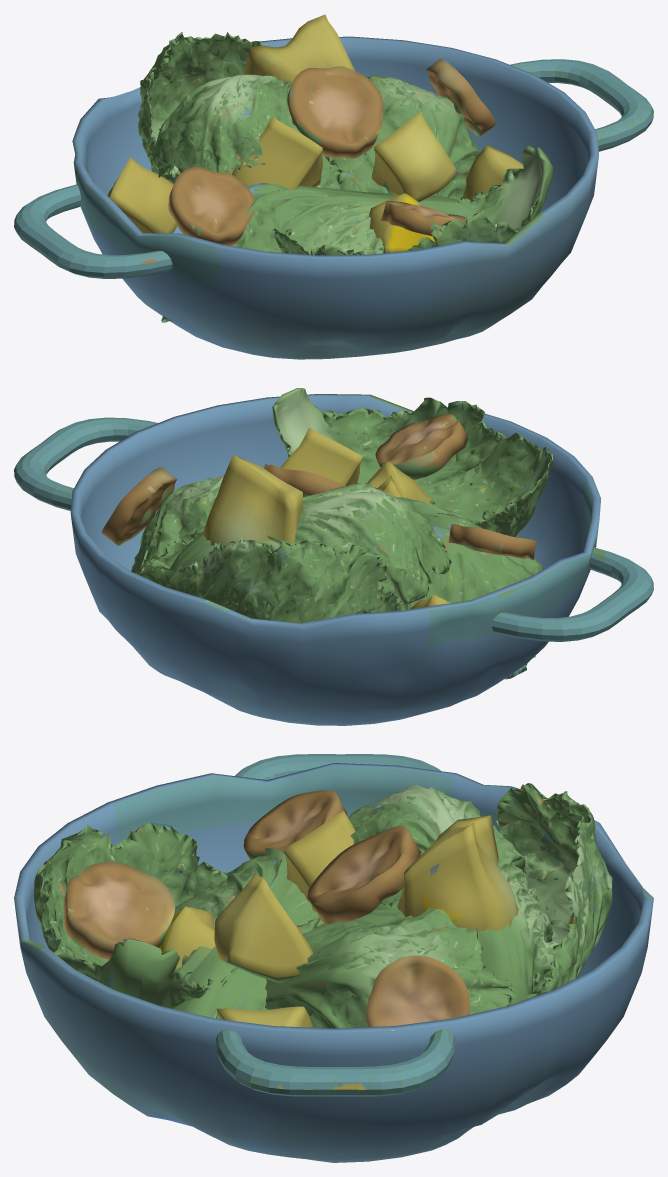
The model's file is salad.fbx.
The picture shows the model from 3 angles, top to bottom: view 1: azimuth 30°, elevation 25°; view 2: azimuth 150°, elevation 25°; view 3: azimuth 270°, elevation 25°; orthographic projection. The views are drawn at different scales.
Parts seen in each view (by area): view 1: 球体.006; view 2: 球体.006; view 3: 球体.006.
Part boxes in pixels (<box>): 球体.006: <box>14,14,653,359</box>; 球体.006: <box>14,388,653,725</box>; 球体.006: <box>14,754,653,1162</box>.
Size of the model in its own units: 332 by 140 by 258.
